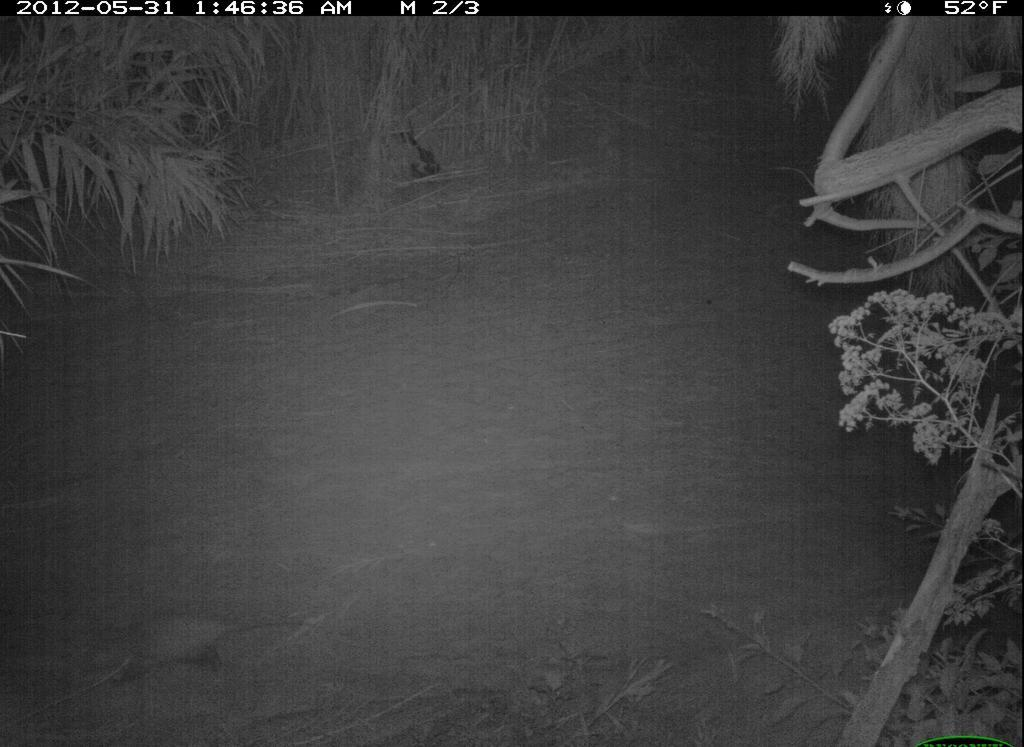opossum: (76, 606, 319, 693)
